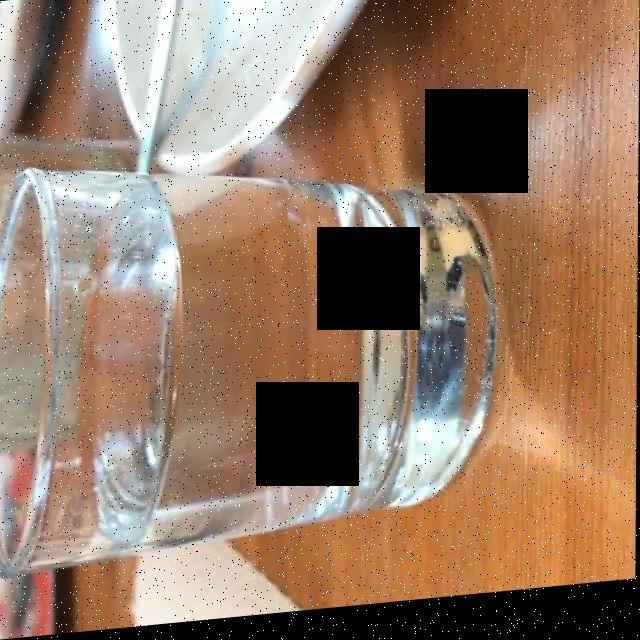water: (98, 181, 428, 576)
